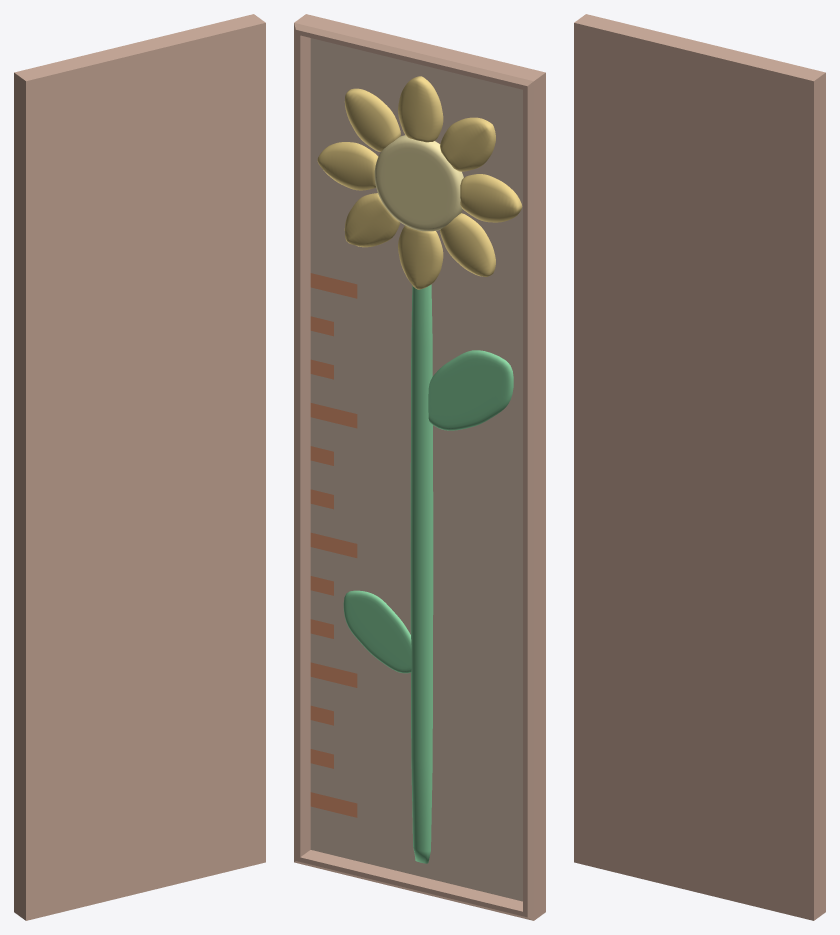
File: FlowerGrowthChart.fbx
The picture shows the model from 3 angles, left to right: view 1: azimuth 30°, elevation 25°; view 2: azimuth 150°, elevation 25°; view 3: azimuth 330°, elevation 25°; orthographic projection.
Visible parts, largest first — view 1: Frame.001; view 2: Frame.001, Petals.001, Stem, Bulb, Leaf, Leaf.002; view 3: Frame.001.
Boxes of the visible parts, x1,y1,x2,y2 form: Frame.001: (14, 14, 265, 920); Frame.001: (294, 14, 545, 920); Petals.001: (317, 76, 522, 289); Stem: (410, 284, 433, 863); Bulb: (374, 135, 463, 231); Leaf: (428, 350, 513, 430); Leaf.002: (343, 590, 411, 673); Frame.001: (574, 14, 825, 920).
Bounding box in the file's own units: 34.2 × 114 × 3.54.
